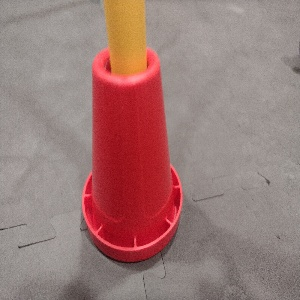Red_1: (79, 39, 184, 264)
